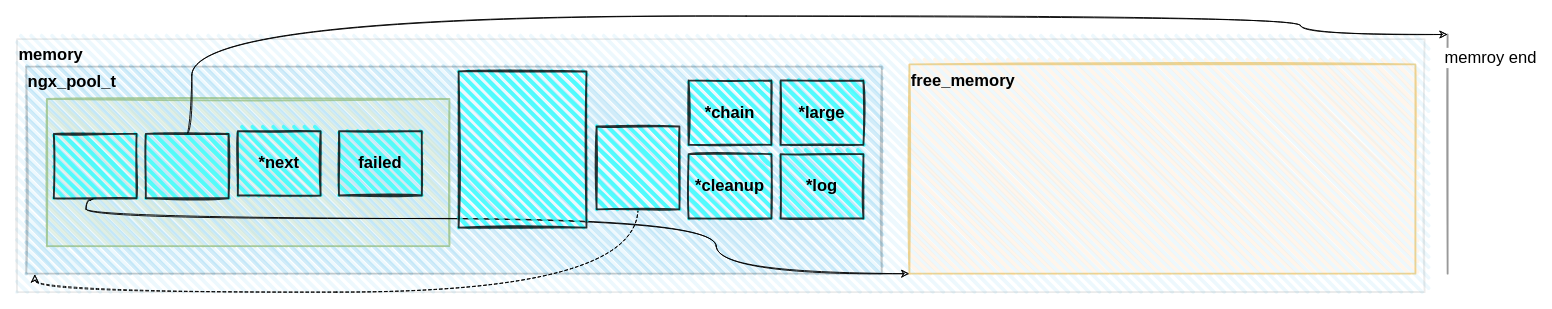
Some shapes in this 1552 by 309 pixel diagram are drawn without their labels. The box of each missing label's shape, as (x1, y1, x2, y2) in pixels:
*current: (595, 125, 680, 210)
*end: (144, 132, 229, 199)
*last: (52, 132, 137, 199)
max (可分配的最大内存 free_memory - sizeof(ngx_pool_t) or ngx_pagesize-1 ): (457, 70, 587, 228)
ngx_pool_data_t: (46, 98, 450, 247)
